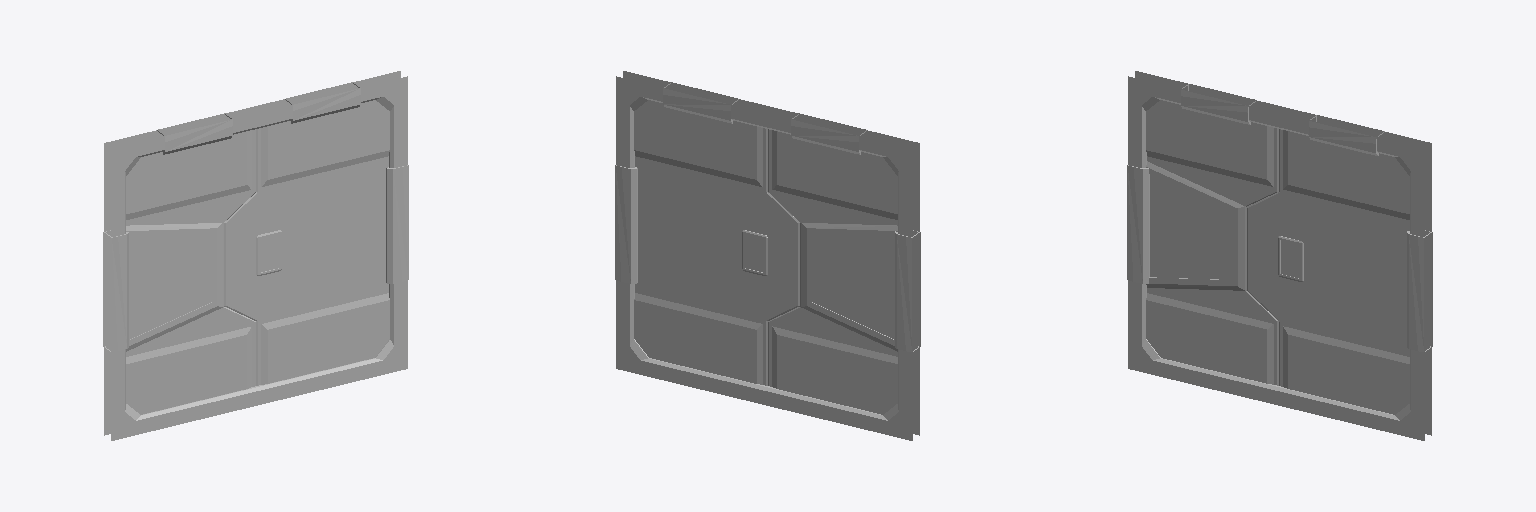
Rendered from door.obj.
3 renders of one model, left to right at view 1: azimuth 30°, elevation 25°; view 2: azimuth 150°, elevation 25°; view 3: azimuth 330°, elevation 25°, orthographic.
Parts seen in each view (by area): view 1: door_part1_untitled.001, door_part2_untitled.002, door_borders_untitled; view 2: door_part1_untitled.001, door_part2_untitled.002, door_borders_untitled; view 3: door_part1_untitled.001, door_part2_untitled.002, door_borders_untitled.
Boxes of the visible parts, <box> form: door_part1_untitled.001: <box>224,100,389,385</box>; door_part2_untitled.002: <box>126,129,255,414</box>; door_borders_untitled: <box>103,71,408,440</box>; door_part1_untitled.001: <box>634,100,799,385</box>; door_part2_untitled.002: <box>768,129,897,414</box>; door_borders_untitled: <box>615,71,920,440</box>; door_part1_untitled.001: <box>1247,129,1409,414</box>; door_part2_untitled.002: <box>1146,100,1278,385</box>; door_borders_untitled: <box>1127,71,1432,440</box>.
Size of the model in its own units: 1 by 0.9461 by 0.0499.